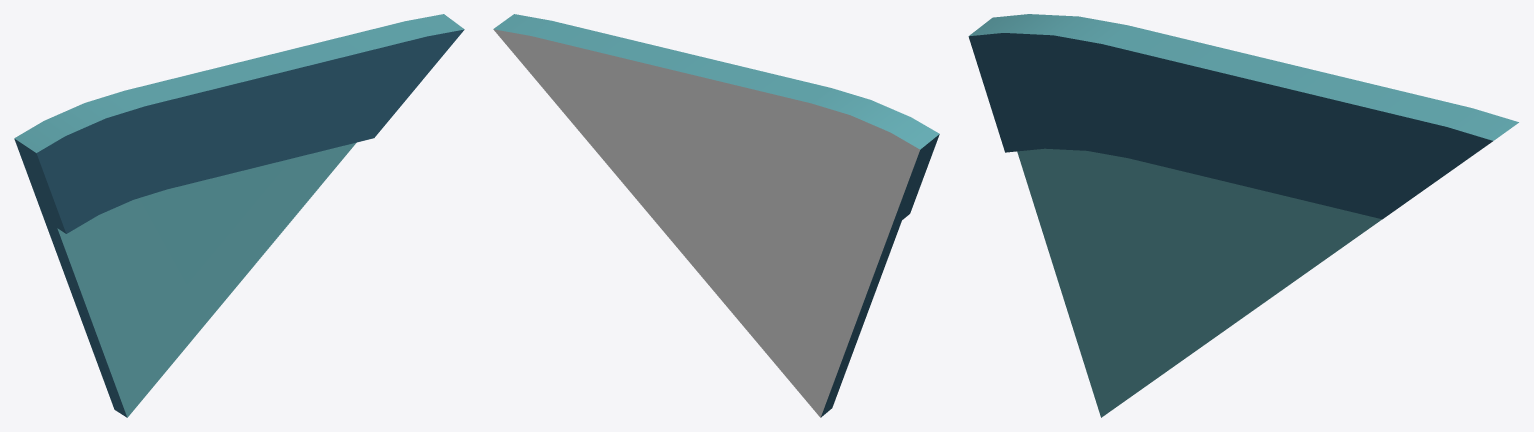
File: door1.fbx
The picture shows the model from 3 angles, left to right: view 1: azimuth 30°, elevation 25°; view 2: azimuth 150°, elevation 25°; view 3: azimuth 330°, elevation 25°; orthographic projection. The views are drawn at different scales.
Parts seen in each view (by area): view 1: 破碎（Voronoi）_fracturepart2; view 2: 破碎（Voronoi）_fracturepart2; view 3: 破碎（Voronoi）_fracturepart2.
Part boxes in pixels (x1,y1,x2,y2): 破碎（Voronoi）_fracturepart2: (14,14,464,417); 破碎（Voronoi）_fracturepart2: (493,14,939,417); 破碎（Voronoi）_fracturepart2: (968,14,1518,417).
Size of the model in its own units: 96.79 by 67.88 by 8.8.
